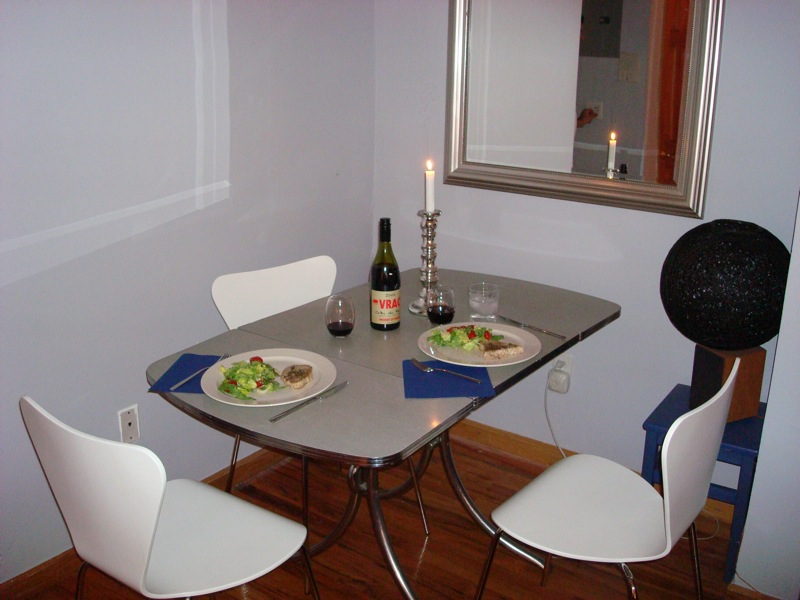chair: (490, 345, 744, 600), (16, 389, 311, 600)
dining table: (162, 228, 627, 600)
